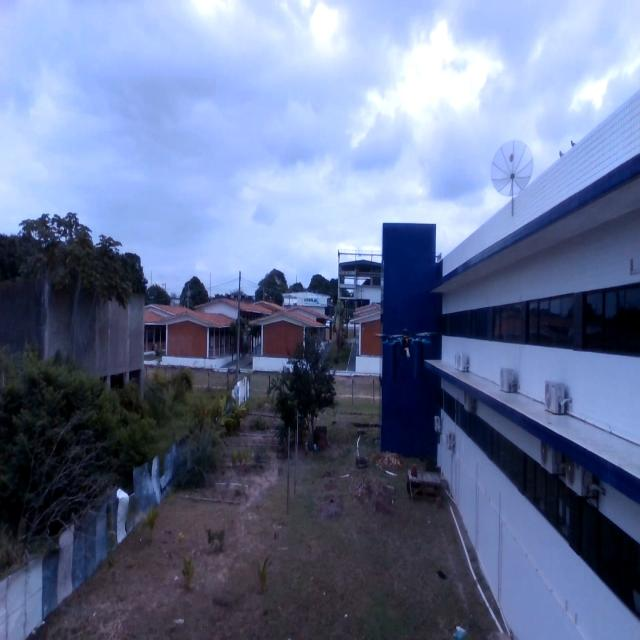-uav-: (366, 308, 436, 379)
